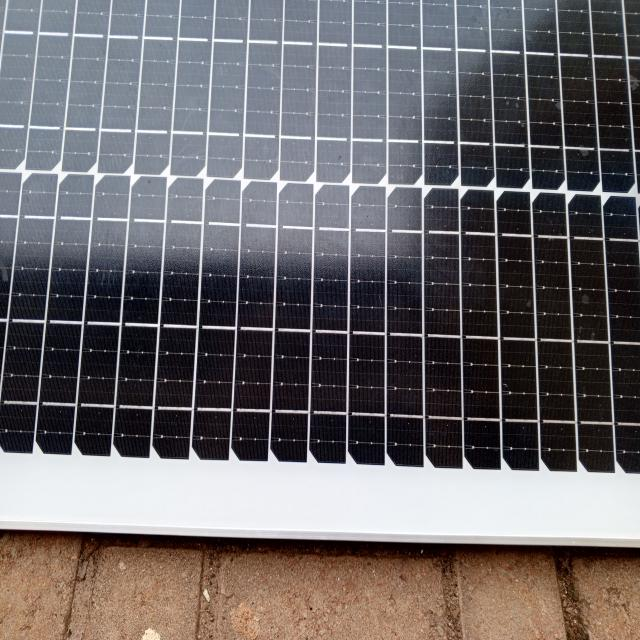Clean: (1, 4, 640, 487)
